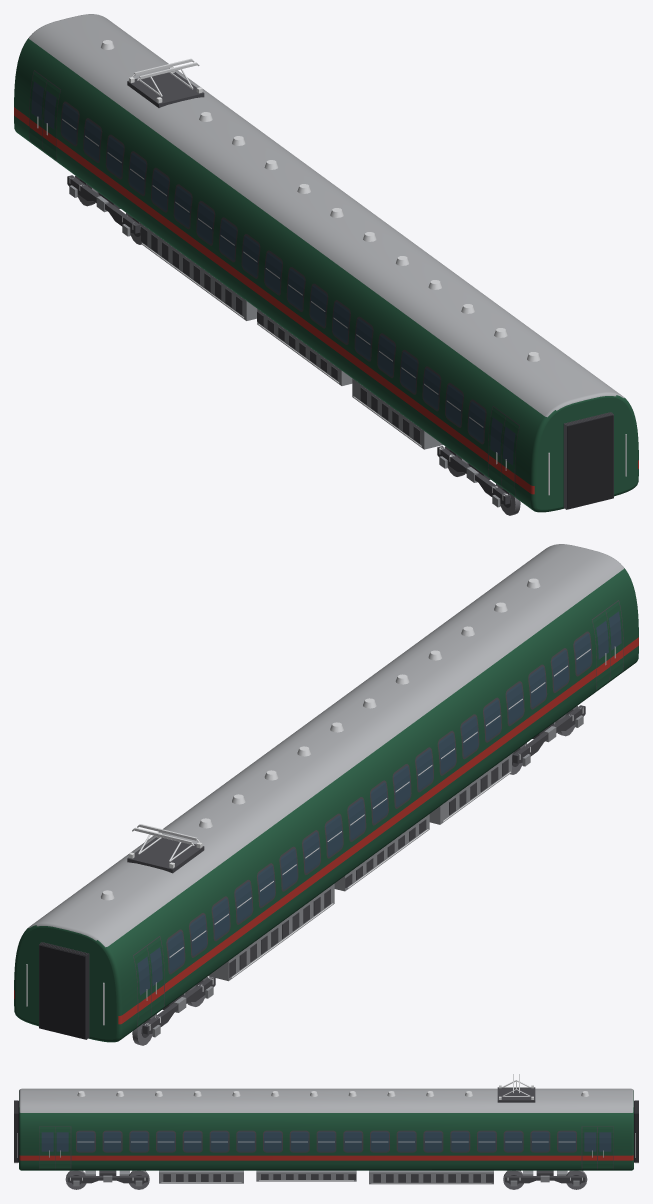
The model's file is middle_3_close.fbx.
The picture shows the model from 3 angles, top to bottom: view 1: azimuth 30°, elevation 25°; view 2: azimuth 150°, elevation 25°; view 3: azimuth 270°, elevation 25°; orthographic projection. The views are drawn at different scales.
Parts seen in each view (by area): view 1: 21_middle_3_close; view 2: 21_middle_3_close; view 3: 21_middle_3_close.
Boxes of the visible parts, x1,y1,x2,y2 form: 21_middle_3_close: (14,14,638,515); 21_middle_3_close: (14,544,638,1045); 21_middle_3_close: (14,1074,638,1189).
Bounding box in the file's own units: 3 × 4.35 × 25.
